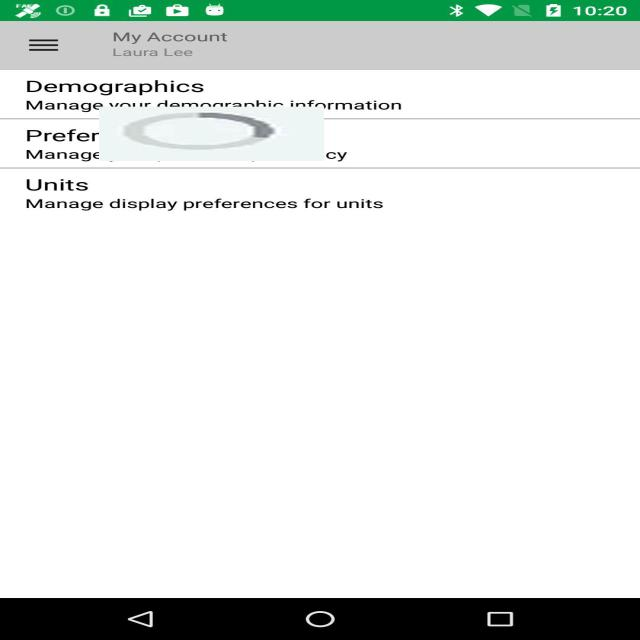misdirection: (99, 107, 324, 161)
